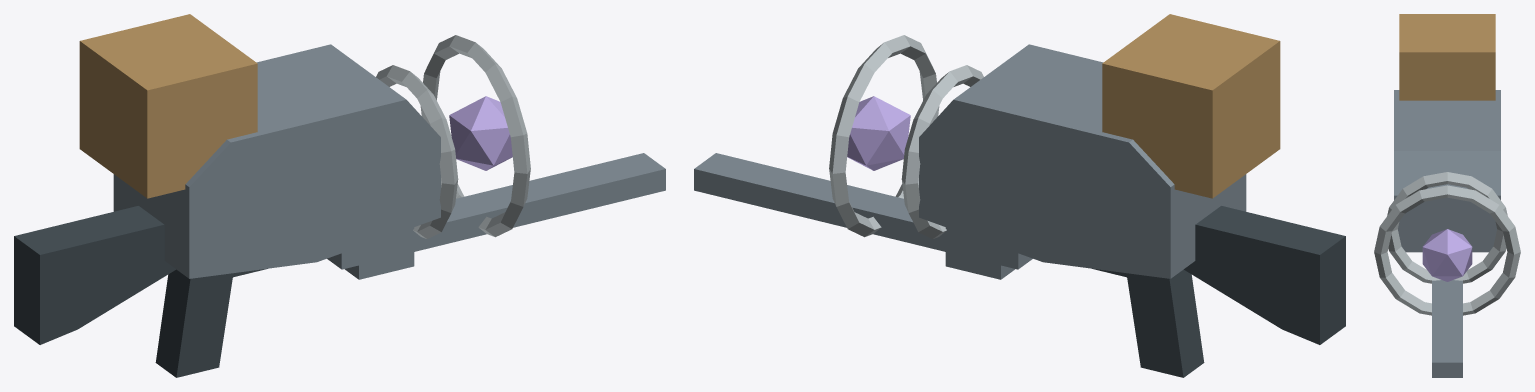
The model's file is w17-ball-lightning-static.glb.
The picture shows the model from 3 angles, left to right: view 1: azimuth 30°, elevation 25°; view 2: azimuth 150°, elevation 25°; view 3: azimuth 270°, elevation 25°; orthographic projection. The views are drawn at different scales.
Visible parts, largest first — view 1: w17-ball-lightning__receiver.001, w17-ball-lightning__reactor_pack.001, w17-ball-lightning__stock.001, w17-ball-lightning__field_spine.001, w17-ball-lightning__grip.001, w17-ball-lightning__field_ring_1.001, w17-ball-lightning__suspended_core.001, w17-ball-lightning__field_ring_0.001, w17-ball-lightning__field_spine_mount.001; view 2: w17-ball-lightning__receiver.001, w17-ball-lightning__reactor_pack.001, w17-ball-lightning__stock.001, w17-ball-lightning__field_spine.001, w17-ball-lightning__grip.001, w17-ball-lightning__field_ring_1.001, w17-ball-lightning__suspended_core.001, w17-ball-lightning__field_ring_0.001, w17-ball-lightning__field_spine_mount.001; view 3: w17-ball-lightning__receiver.001, w17-ball-lightning__reactor_pack.001, w17-ball-lightning__field_ring_1.001, w17-ball-lightning__field_ring_0.001, w17-ball-lightning__field_spine.001, w17-ball-lightning__suspended_core.001.
Boxes of the visible parts, box(x1,y1,x2,y2) form: w17-ball-lightning__receiver.001: box(113, 44, 440, 278); w17-ball-lightning__reactor_pack.001: box(79, 14, 257, 198); w17-ball-lightning__stock.001: box(14, 206, 175, 344); w17-ball-lightning__field_spine.001: box(327, 153, 665, 269); w17-ball-lightning__grip.001: box(155, 269, 233, 377); w17-ball-lightning__field_ring_1.001: box(420, 35, 530, 237); w17-ball-lightning__suspended_core.001: box(449, 96, 512, 170); w17-ball-lightning__field_ring_0.001: box(376, 65, 458, 238); w17-ball-lightning__field_spine_mount.001: box(344, 227, 414, 279); w17-ball-lightning__receiver.001: box(919, 44, 1246, 278); w17-ball-lightning__reactor_pack.001: box(1102, 14, 1280, 198); w17-ball-lightning__stock.001: box(1184, 206, 1345, 344); w17-ball-lightning__field_spine.001: box(694, 153, 1032, 269); w17-ball-lightning__grip.001: box(1126, 269, 1204, 377); w17-ball-lightning__field_ring_1.001: box(829, 35, 939, 237); w17-ball-lightning__suspended_core.001: box(847, 96, 910, 170); w17-ball-lightning__field_ring_0.001: box(901, 65, 983, 238); w17-ball-lightning__field_spine_mount.001: box(945, 227, 1015, 279); w17-ball-lightning__receiver.001: box(1394, 90, 1500, 252); w17-ball-lightning__reactor_pack.001: box(1399, 14, 1495, 100); w17-ball-lightning__field_ring_1.001: box(1374, 185, 1520, 315); w17-ball-lightning__field_ring_0.001: box(1387, 172, 1507, 283); w17-ball-lightning__field_spine.001: box(1432, 280, 1462, 377); w17-ball-lightning__suspended_core.001: box(1422, 229, 1472, 281).
Size of the model in its own units: 0.9106 by 0.44 by 0.26.
